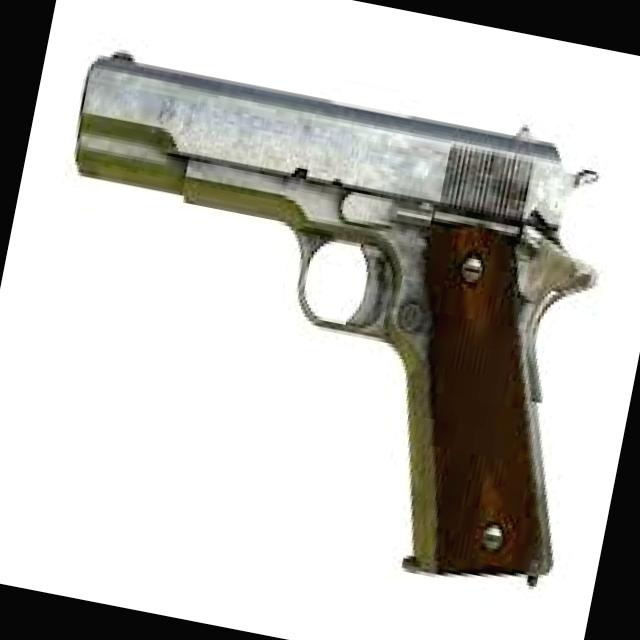semi automatic: (0, 30, 640, 616)
